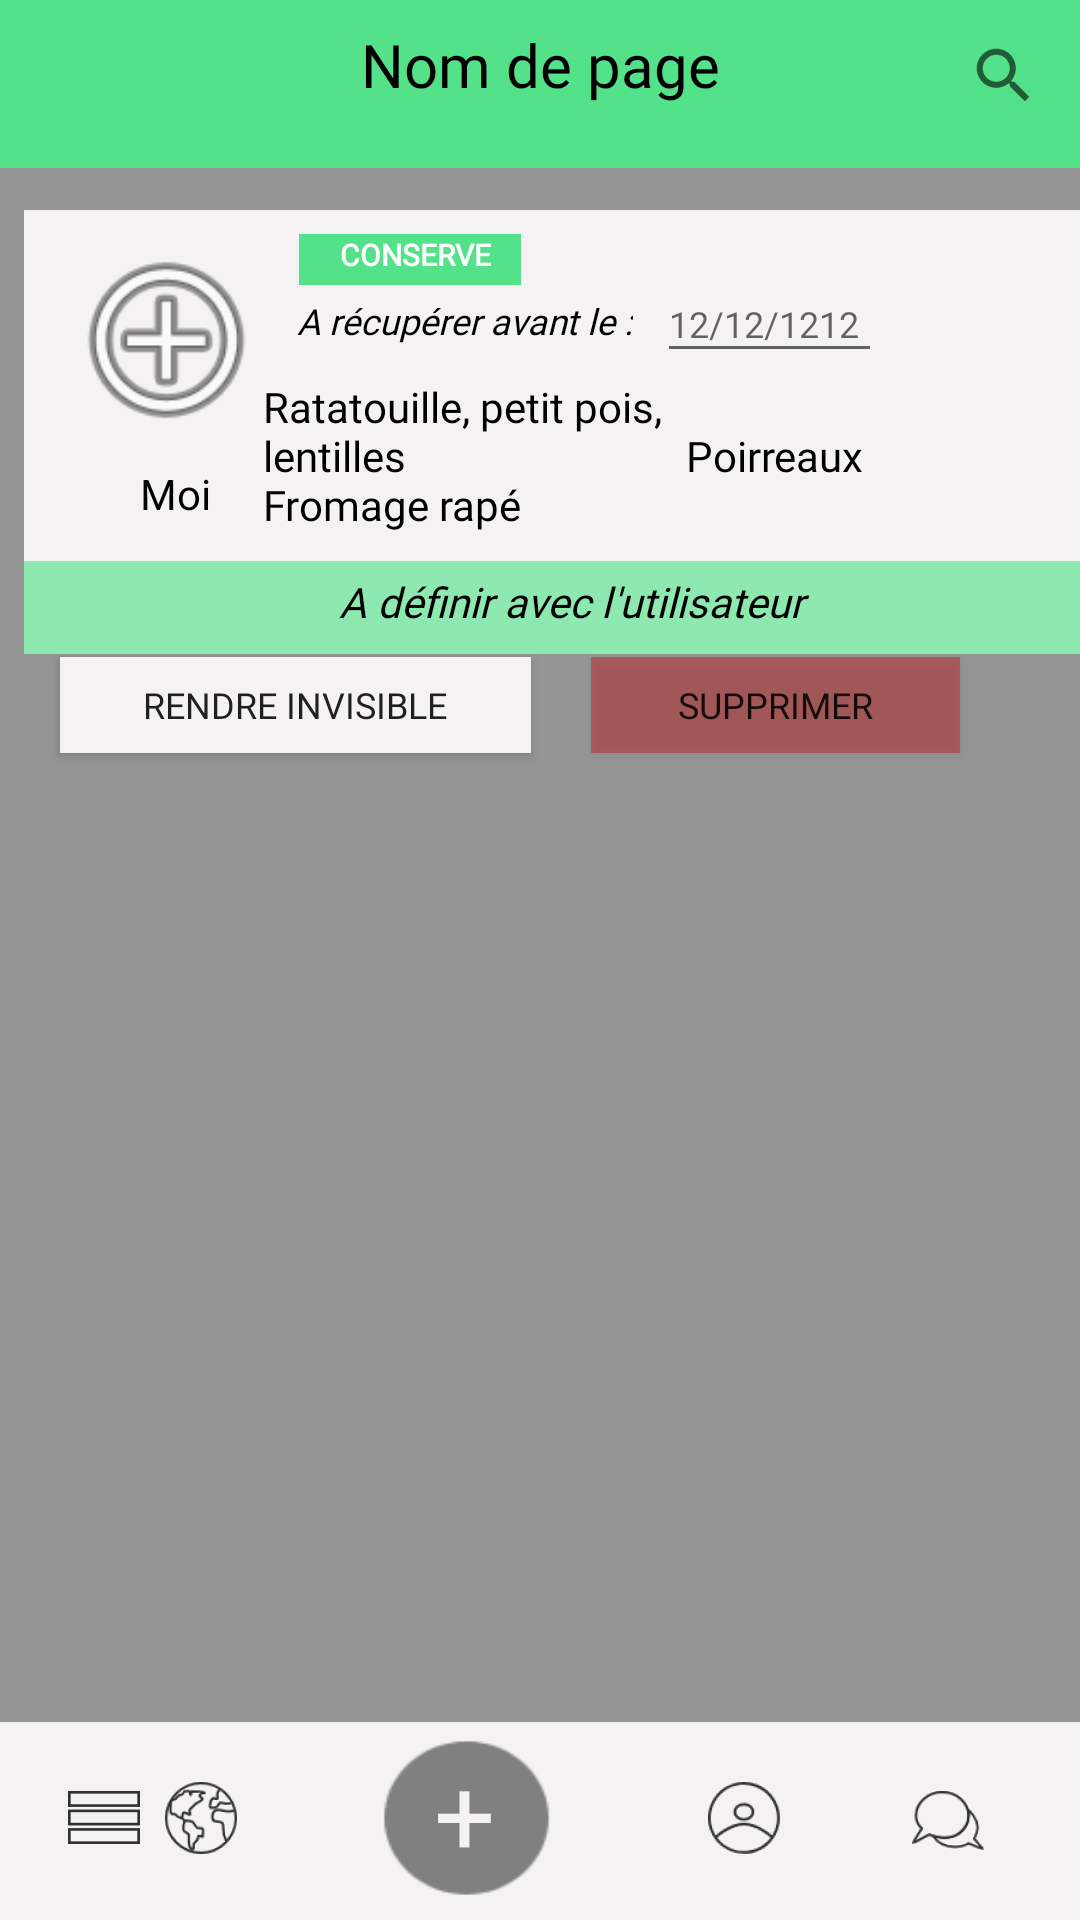

Named icons in this screenshot (1080x1920) and their centers, point (x, y):
add: point (186, 342), point (466, 1818)
discuss: point (948, 1820)
menu: point (104, 1817)
planet: point (201, 1818)
